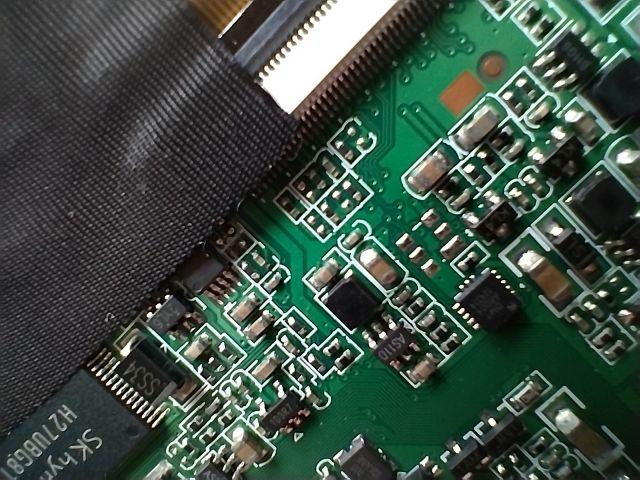capacitor: (535, 403, 619, 465), (514, 249, 572, 307), (349, 250, 410, 292), (407, 144, 447, 193), (177, 332, 211, 368), (229, 435, 265, 464), (408, 357, 439, 384), (245, 316, 270, 347), (253, 355, 274, 386), (533, 98, 555, 122), (234, 299, 252, 320)
resistor: (604, 332, 629, 368), (403, 291, 430, 323), (457, 250, 490, 276), (592, 320, 618, 350), (437, 337, 468, 358), (306, 167, 334, 190), (419, 304, 441, 332), (321, 332, 341, 362), (341, 181, 365, 206), (433, 319, 454, 347), (495, 129, 519, 153), (510, 8, 542, 26), (297, 176, 319, 201), (176, 443, 202, 463), (281, 198, 307, 218), (529, 17, 550, 40), (334, 351, 354, 374), (180, 415, 206, 429), (320, 205, 343, 219), (476, 152, 496, 168), (198, 432, 216, 444), (216, 417, 232, 429)
